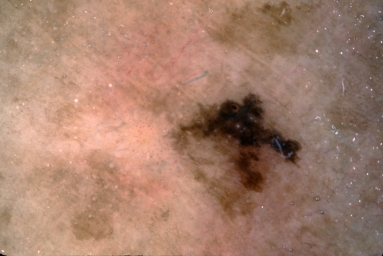seborrheic keratosis: (151, 69, 320, 238)
